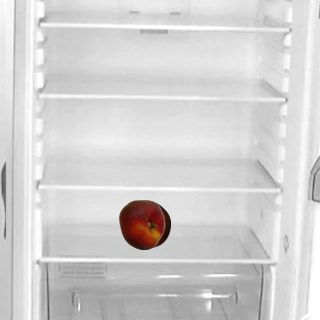Apple Braeburn: (120, 199, 170, 249)
Nectarine Flat: (116, 199, 166, 249)
